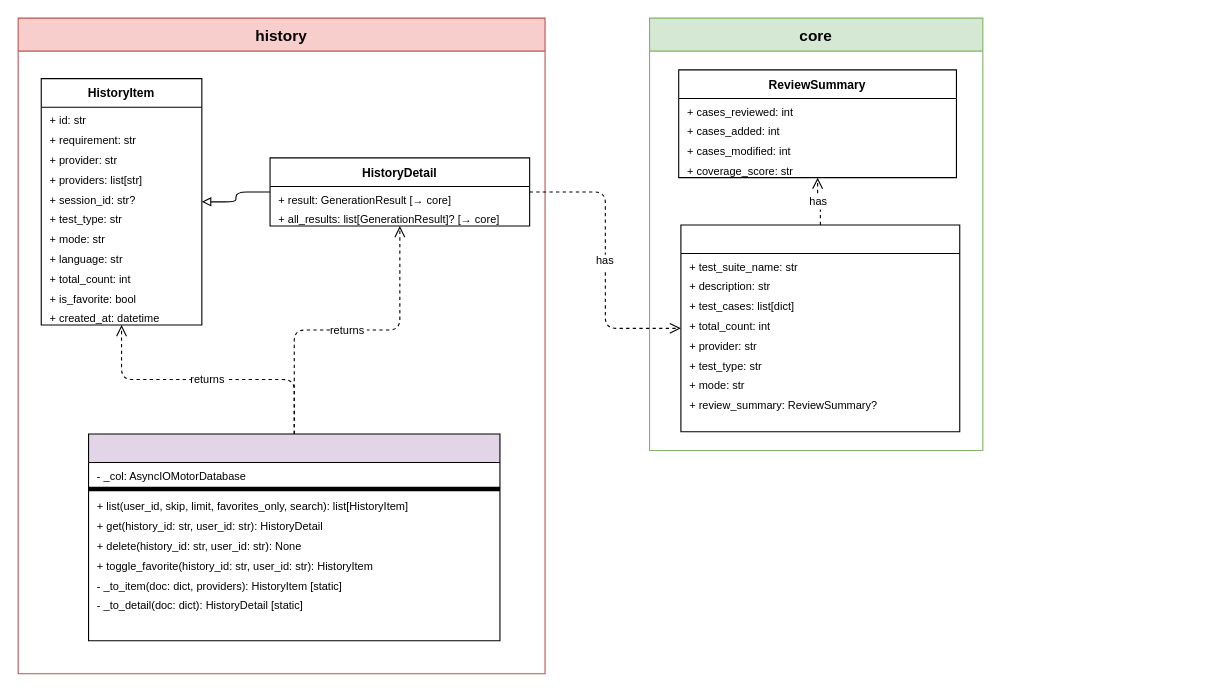
This 1205x692 diagram has some shape labels left out. The shapes that lost their labels are listed below. From the top down, each one's box as (x1, y1, x2, y2) in pixels, then its label:
(680, 224, 960, 432): GenerationResult
(87, 433, 500, 641): HistoryService
